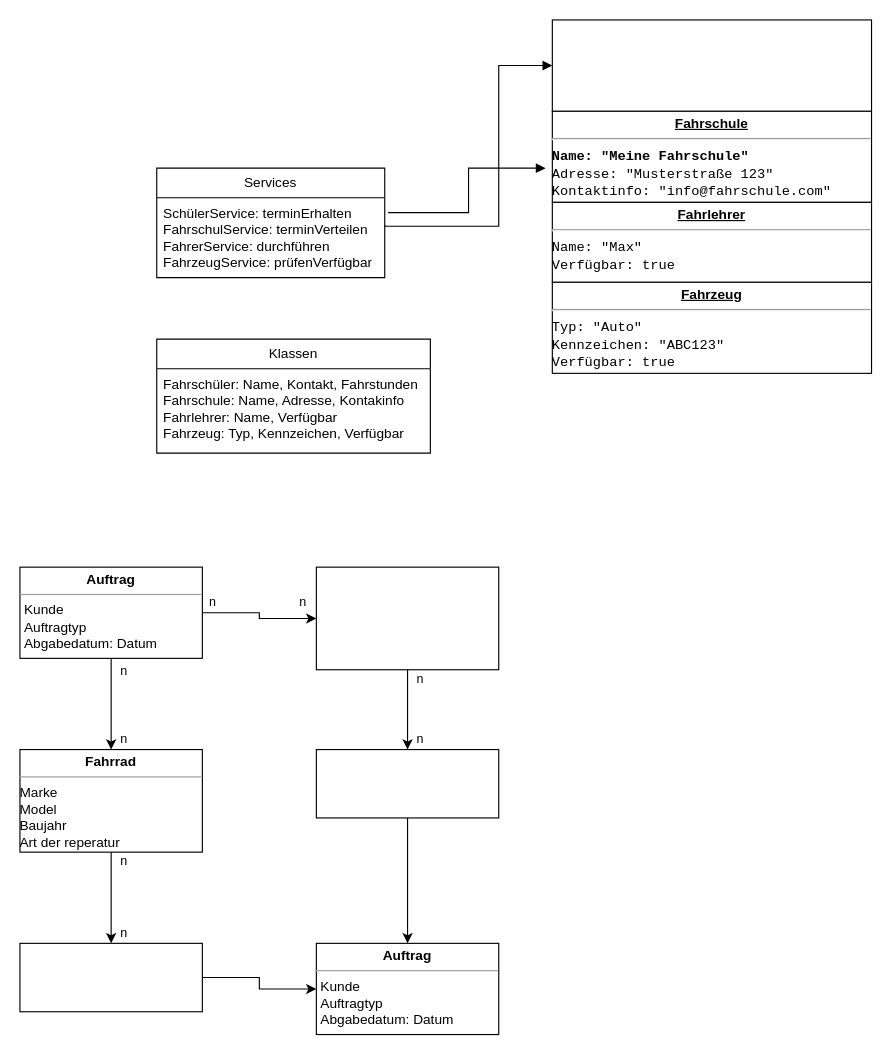
The diagram is 891 pixels wide and 1055 high, and some of its shapes have lost their labels. Each missing label, with the centre of its shape:
Fahrschüler Name: "Jakob" Kontakt: "Jakob@jakob.com" Fahrstunden: 69: point (711, 65)
Kunde Name Email Telefonnummer Wunsch: point (407, 618)
Reperatur Ersatzteile Reperaturdauer: point (110, 977)
Wunsch Ersatzteile Reperaturdauer: point (407, 783)
